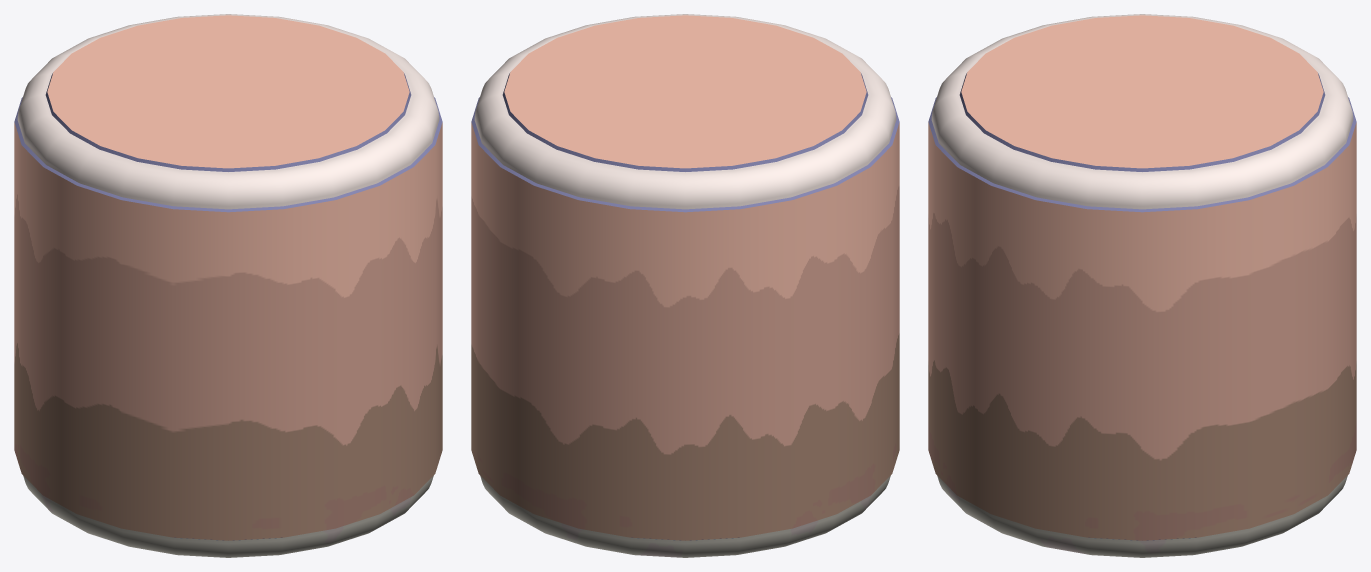
3 renders of one model, left to right at view 1: azimuth 30°, elevation 25°; view 2: azimuth 150°, elevation 25°; view 3: azimuth 270°, elevation 25°, orthographic.
Parts seen in each view (by area): view 1: R4B_Cylinder; view 2: R4B_Cylinder; view 3: R4B_Cylinder.
Part boxes in pixels (bbox=[...]): R4B_Cylinder: bbox=[14, 14, 442, 557]; R4B_Cylinder: bbox=[471, 14, 899, 557]; R4B_Cylinder: bbox=[928, 14, 1356, 557].
Bounding box in the file's own units: 0.52 × 0.52 × 0.52.
3 materials, 3 textured.
